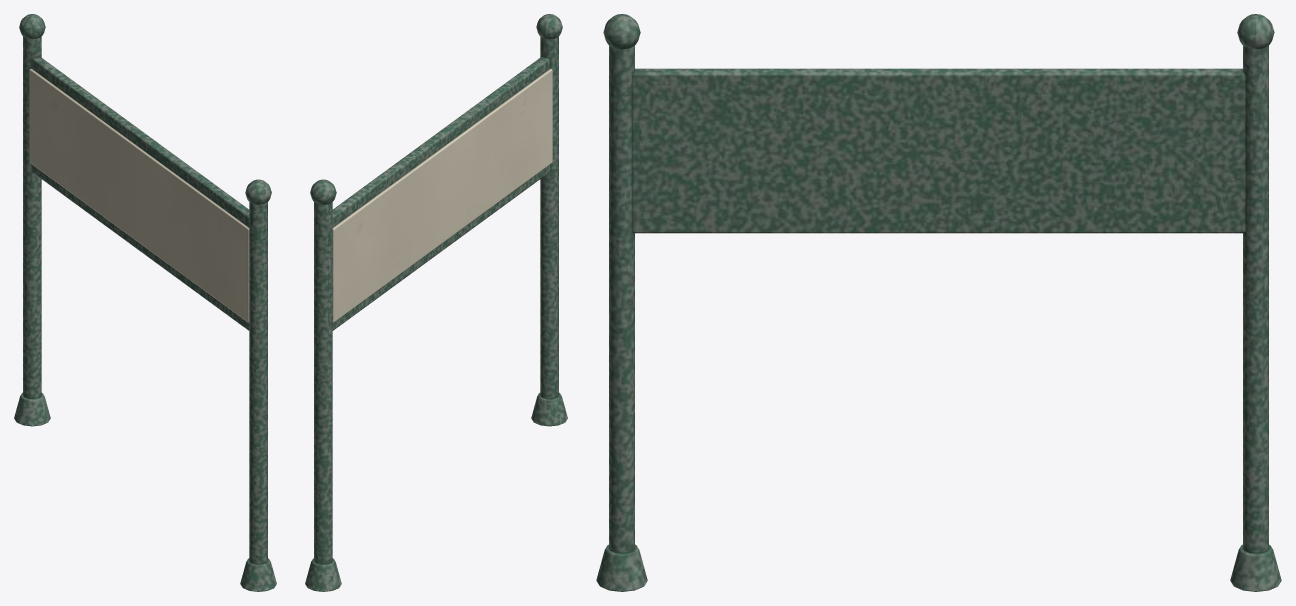
File: station_sign.glb
The picture shows the model from 3 angles, left to right: view 1: azimuth 30°, elevation 25°; view 2: azimuth 150°, elevation 25°; view 3: azimuth 270°, elevation 25°; orthographic projection. The views are drawn at different scales.
Visible parts, largest first — view 1: StationSign; view 2: StationSign; view 3: StationSign.
Boxes of the visible parts, x1,y1,x2,y2 form: StationSign: (14,14,276,591); StationSign: (305,14,567,591); StationSign: (596,14,1281,591).
Size of the model in its own units: 0.2751 by 3.35 by 3.68.
2 materials, 2 textured.
